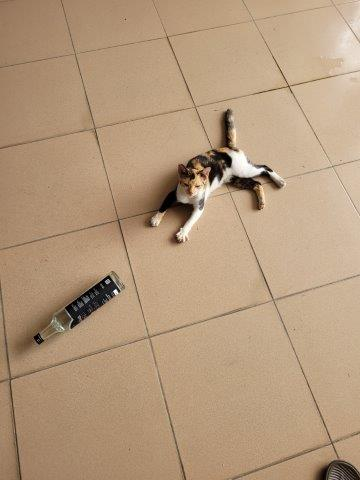botolkaca: (32, 271, 125, 343)
